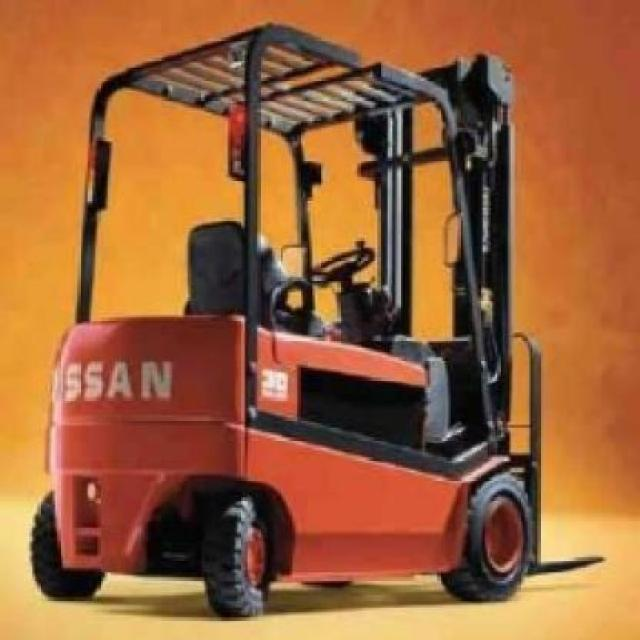forklift: (27, 22, 543, 618)
